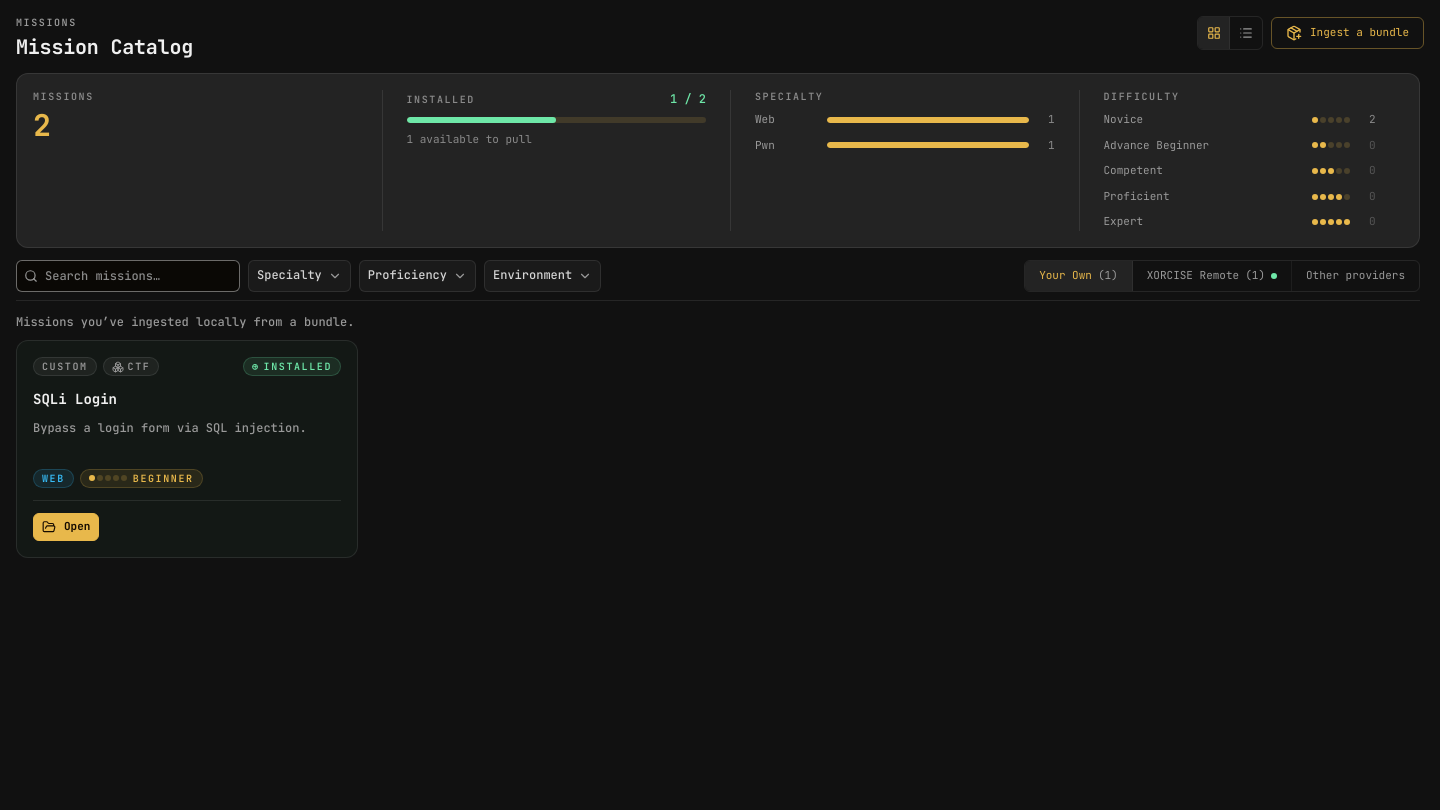
MissionCatalog › separates providers into tabs (Your Own active first, Remote on switch)
Expected: the tab "Your Own(1)" is shown, left=1025, top=261, right=1133, bottom=291
Expected: the tab "Other providers" is shown, left=1292, top=261, right=1419, bottom=291
Switch to the Remote tab → the library mission appears.
Step 1. Click the tab "XORCISE Remote(1)" → (1212, 276), box left=1133, top=261, right=1292, bottom=291
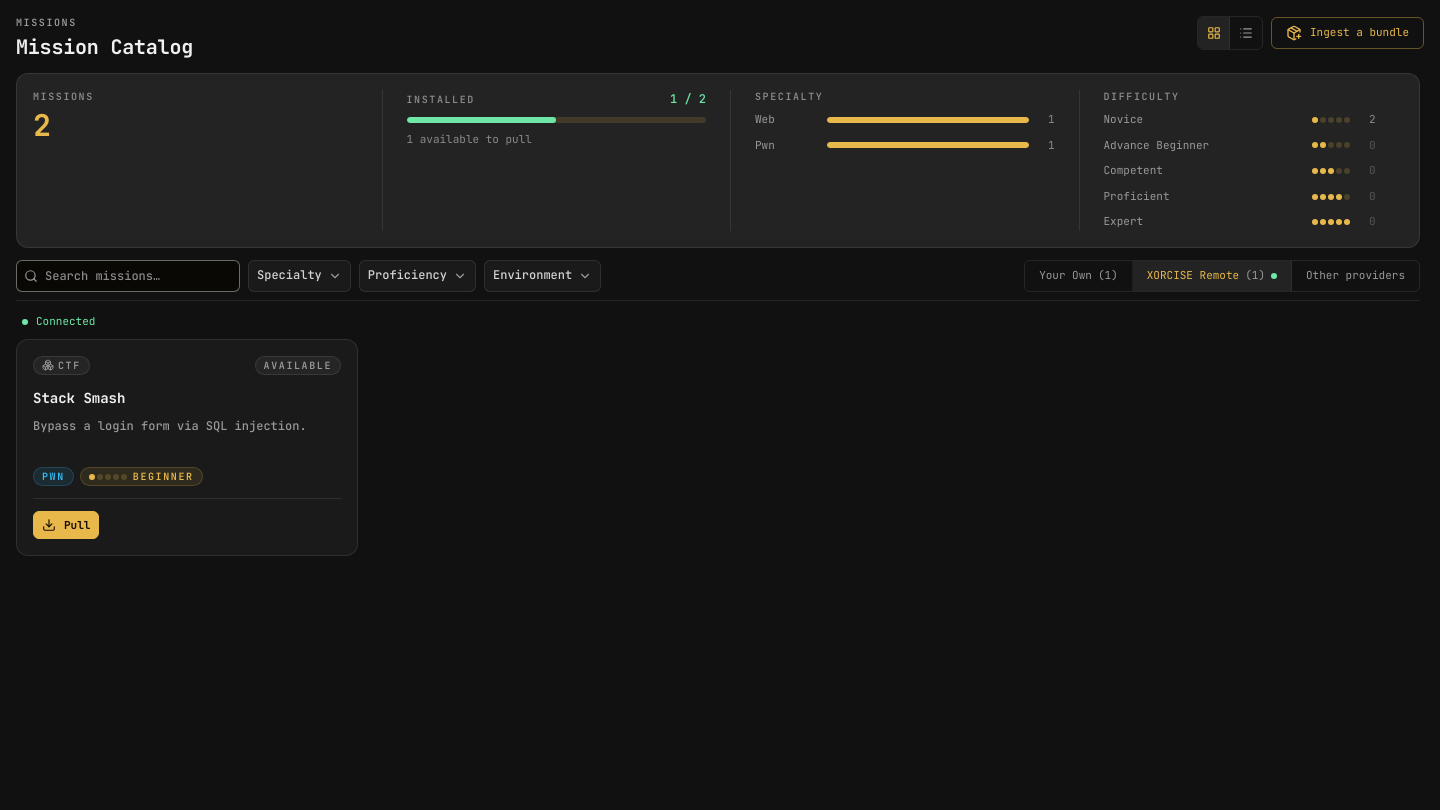
Expected: the text "Stack Smash" is shown, left=33, top=389, right=125, bottom=407
